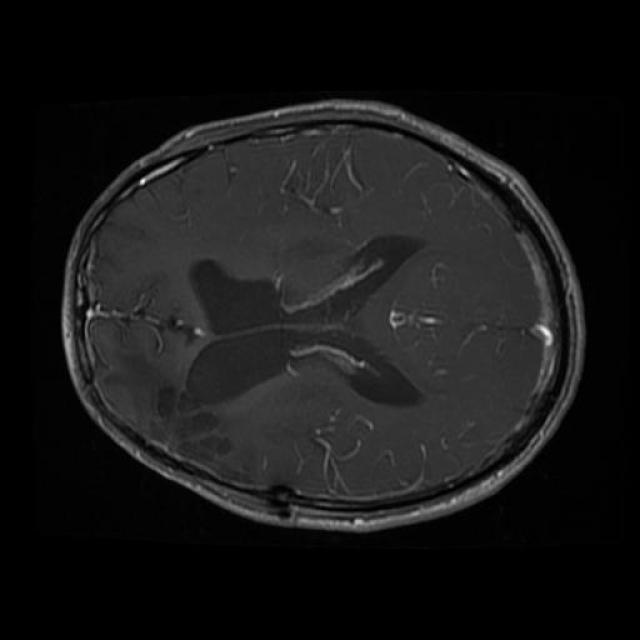Glioma: (157, 385, 232, 468)
